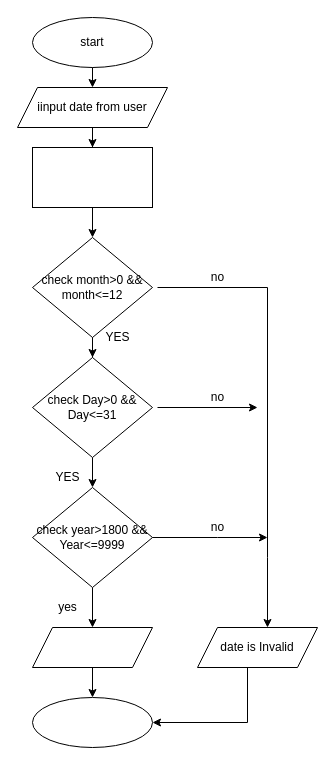
The diagram is 335 pixels wide and 765 high, and some of its shapes have lost their labels. Each missing label, with the box of its shape:
date is valid: (32, 626, 152, 668)
End: (32, 696, 152, 748)
Validate Date: (32, 146, 152, 208)
